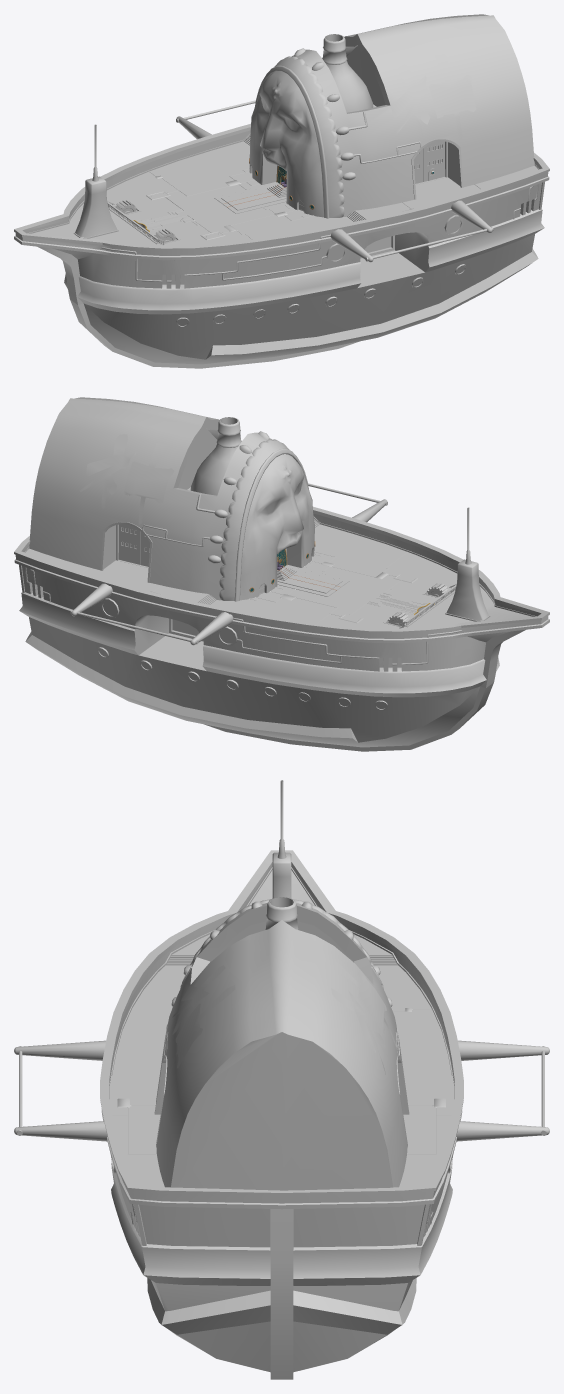
File: OP_KD_Arkmotto_New.FBX
3 renders of one model, top to bottom at view 1: azimuth 30°, elevation 25°; view 2: azimuth 150°, elevation 25°; view 3: azimuth 270°, elevation 25°, orthographic. The views are drawn at different scales.
Visible parts, largest first — view 1: Monster_Arkmotto_main_New, Monster_Arkmotto_wall_New, Monster_Arkmotto_05_New, Monster_Arkmotto_floor01_New, Monster_Arkmotto_face_New, Monster_Arkmotto_metal_New, Monster_Arkmotto_other_New, Monster_Arkmotto_text_New, Monster_Arkmotto_floor02_New, Monster_Arkmotto_gear_New; view 2: Monster_Arkmotto_main_New, Monster_Arkmotto_wall_New, Monster_Arkmotto_05_New, Monster_Arkmotto_floor01_New, Monster_Arkmotto_face_New, Monster_Arkmotto_metal_New, Monster_Arkmotto_other_New, Monster_Arkmotto_text_New, Monster_Arkmotto_floor02_New, Monster_Arkmotto_gear_New; view 3: Monster_Arkmotto_wall_New, Monster_Arkmotto_main_New, Monster_Arkmotto_05_New, Monster_Arkmotto_floor01_New, Monster_Arkmotto_other_New, Monster_Arkmotto_metal_New, Monster_Arkmotto_text_New.
Boxes of the visible parts, x1,y1,x2,y2 form: Monster_Arkmotto_main_New: (14, 45, 549, 314); Monster_Arkmotto_wall_New: (177, 14, 534, 325); Monster_Arkmotto_05_New: (70, 234, 538, 368); Monster_Arkmotto_floor01_New: (32, 135, 538, 245); Monster_Arkmotto_face_New: (249, 56, 434, 218); Monster_Arkmotto_metal_New: (73, 34, 538, 327); Monster_Arkmotto_other_New: (14, 123, 549, 250); Monster_Arkmotto_text_New: (391, 48, 476, 140); Monster_Arkmotto_floor02_New: (146, 182, 286, 240); Monster_Arkmotto_gear_New: (114, 200, 176, 243); Monster_Arkmotto_main_New: (14, 428, 549, 697); Monster_Arkmotto_wall_New: (29, 397, 386, 708); Monster_Arkmotto_05_New: (25, 617, 493, 751); Monster_Arkmotto_floor01_New: (25, 518, 531, 628); Monster_Arkmotto_face_New: (219, 439, 314, 601); Monster_Arkmotto_metal_New: (25, 417, 490, 710); Monster_Arkmotto_other_New: (14, 506, 549, 633); Monster_Arkmotto_text_New: (79, 434, 174, 524); Monster_Arkmotto_floor02_New: (277, 565, 417, 623); Monster_Arkmotto_gear_New: (387, 583, 449, 626); Monster_Arkmotto_wall_New: (156, 902, 407, 1190); Monster_Arkmotto_main_New: (101, 921, 462, 1285); Monster_Arkmotto_05_New: (147, 1209, 416, 1379); Monster_Arkmotto_floor01_New: (109, 870, 454, 1187); Monster_Arkmotto_other_New: (100, 850, 463, 1195); Monster_Arkmotto_metal_New: (14, 780, 549, 1224); Monster_Arkmotto_text_New: (166, 960, 397, 1086).
Size of the model in its own units: 21267 by 12832 by 14673.
